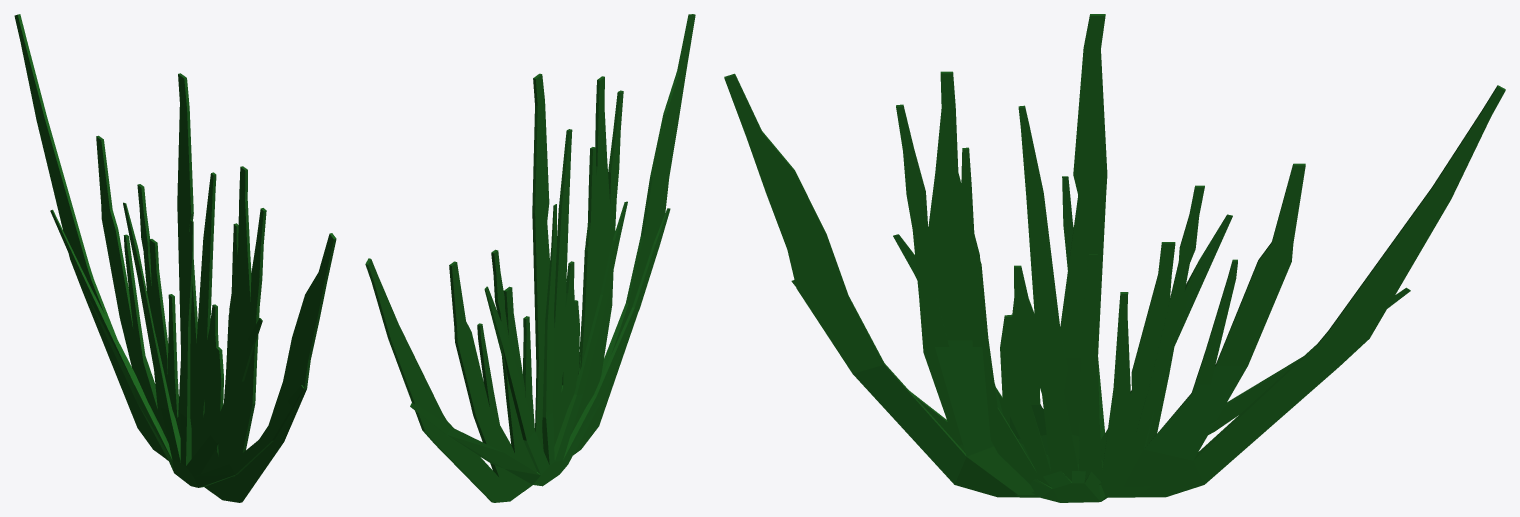
File: SeaWeed.glb
The picture shows the model from 3 angles, left to right: view 1: azimuth 30°, elevation 25°; view 2: azimuth 150°, elevation 25°; view 3: azimuth 270°, elevation 25°; orthographic projection. The views are drawn at different scales.
Visible parts, largest first — view 1: SeaWeed; view 2: SeaWeed; view 3: SeaWeed.
Boxes of the visible parts, box(x1,y1,x2,y2) form: SeaWeed: box(14, 14, 336, 502); SeaWeed: box(365, 14, 695, 502); SeaWeed: box(724, 14, 1505, 502).
Size of the model in its own units: 10.18 by 284 by 414.
